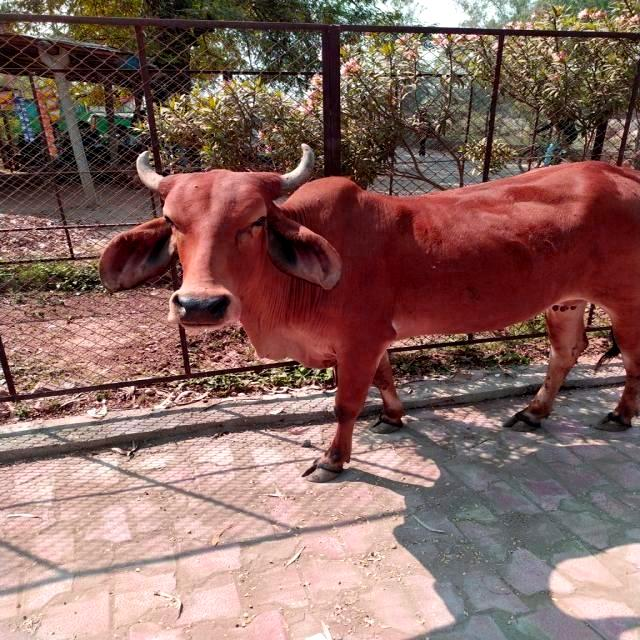COW: (100, 145, 640, 482)
